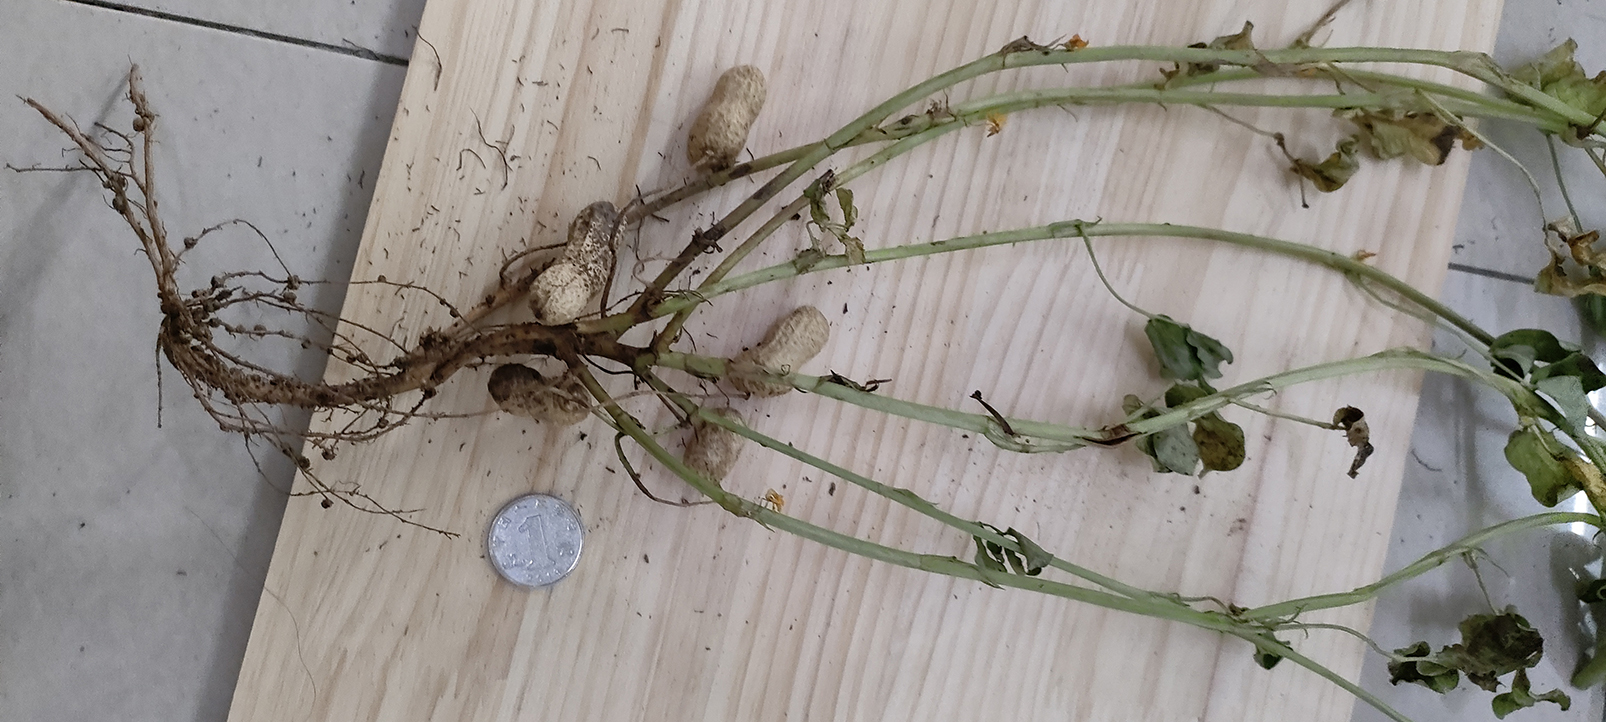h: (529, 201, 626, 324), (728, 305, 829, 397), (687, 65, 768, 170)
l: (488, 362, 591, 424), (684, 407, 749, 486)
